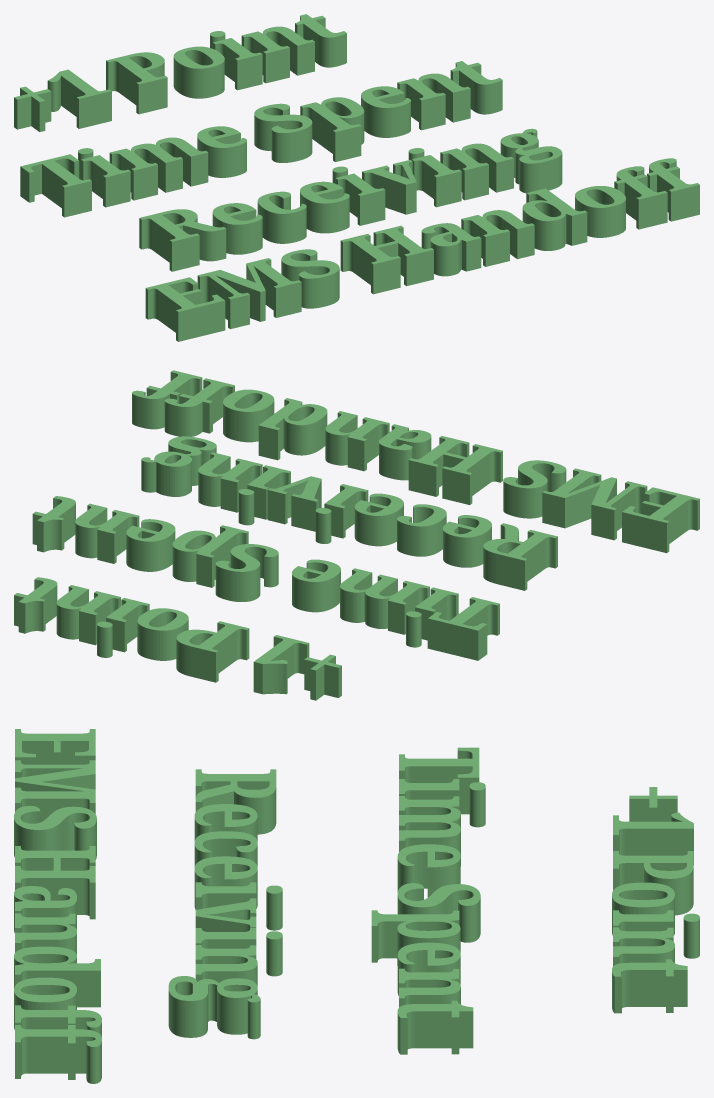
File: posems.gltf
The picture shows the model from 3 angles, top to bottom: view 1: azimuth 30°, elevation 25°; view 2: azimuth 150°, elevation 25°; view 3: azimuth 270°, elevation 25°; orthographic projection. The views are drawn at different scales.
Parts seen in each view (by area): view 1: Mesh_Mesh_head_geo001_lambert2SG001; view 2: Mesh_Mesh_head_geo001_lambert2SG001; view 3: Mesh_Mesh_head_geo001_lambert2SG001.
Part boxes in pixels (x1=…): Mesh_Mesh_head_geo001_lambert2SG001: x1=14, y1=14, x2=699, y2=341; Mesh_Mesh_head_geo001_lambert2SG001: x1=14, y1=370, x2=699, y2=700; Mesh_Mesh_head_geo001_lambert2SG001: x1=14, y1=729, x2=699, y2=1083.
Bounding box in the file's own units: 185 × 10 × 169.
